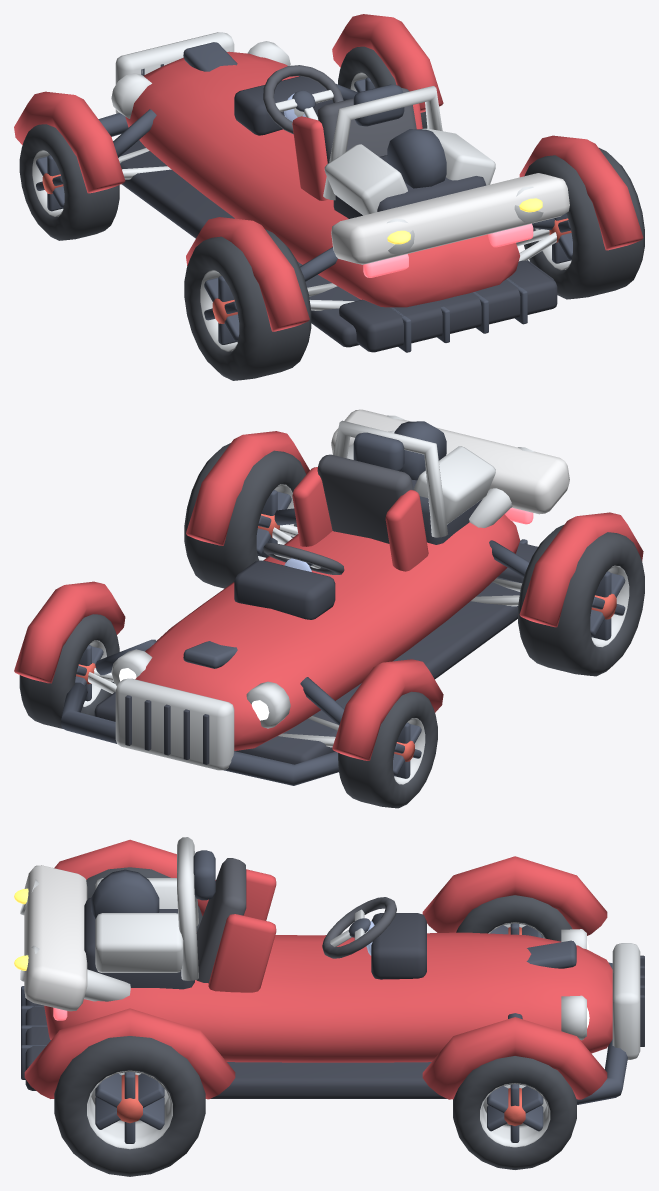
File: chave_mestra_gt.glb
3 views of the same model, one above another, from view 1: azimuth 30°, elevation 25°; view 2: azimuth 150°, elevation 25°; view 3: azimuth 270°, elevation 25° (orthographic). The views are drawn at different scales.
Parts seen in each view (by area): view 1: chave-mestra-gt_ChassisMesh, WheelRL_Mesh, WheelRR_Mesh, WheelFL_Mesh, chave-mestra-gt_SteeringWheelMesh, WheelFR_Mesh, ExhaustR_Mesh, ExhaustL_Mesh; view 2: chave-mestra-gt_ChassisMesh, WheelRL_Mesh, WheelRR_Mesh, WheelFL_Mesh, WheelFR_Mesh, chave-mestra-gt_SteeringWheelMesh, ExhaustL_Mesh; view 3: chave-mestra-gt_ChassisMesh, WheelRR_Mesh, WheelFR_Mesh, WheelFL_Mesh, chave-mestra-gt_SteeringWheelMesh, ExhaustR_Mesh, WheelRL_Mesh.
Part boxes in pixels (<box>): chave-mestra-gt_ChassisMesh: <box>14,14,643,352</box>; WheelRL_Mesh: <box>184,229,311,380</box>; WheelRR_Mesh: <box>524,148,644,299</box>; WheelFL_Mesh: <box>19,124,119,240</box>; chave-mestra-gt_SteeringWheelMesh: <box>263,65,343,134</box>; WheelFR_Mesh: <box>338,46,427,128</box>; ExhaustR_Mesh: <box>514,186,543,222</box>; ExhaustL_Mesh: <box>387,218,414,254</box>; chave-mestra-gt_ChassisMesh: <box>14,409,643,785</box>; WheelRL_Mesh: <box>518,524,644,676</box>; WheelRR_Mesh: <box>184,443,306,588</box>; WheelFL_Mesh: <box>338,691,437,808</box>; WheelFR_Mesh: <box>19,614,119,728</box>; chave-mestra-gt_SteeringWheelMesh: <box>263,543,344,574</box>; ExhaustL_Mesh: <box>469,447,533,527</box>; chave-mestra-gt_ChassisMesh: <box>21,837,644,1104</box>; WheelRR_Mesh: <box>54,1036,205,1176</box>; WheelFR_Mesh: <box>453,1056,576,1169</box>; WheelFL_Mesh: <box>456,895,572,941</box>; chave-mestra-gt_SteeringWheelMesh: <box>322,897,396,958</box>; ExhaustR_Mesh: <box>14,945,130,1001</box>; WheelRL_Mesh: <box>86,867,202,932</box>.
Bounding box in the file's own units: 2.05 × 1.06 × 2.72.
